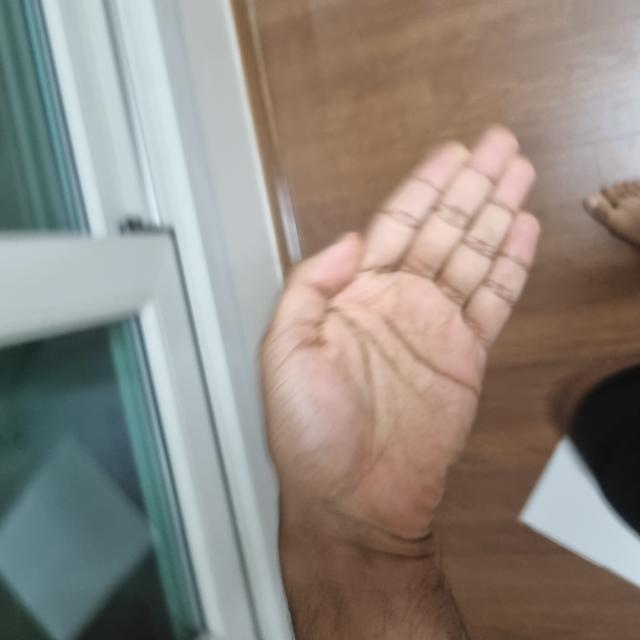Paper: (109, 263, 512, 538)
